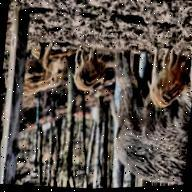boar: (102, 57, 192, 188), (1, 43, 76, 101), (62, 45, 117, 108), (149, 37, 192, 116)
